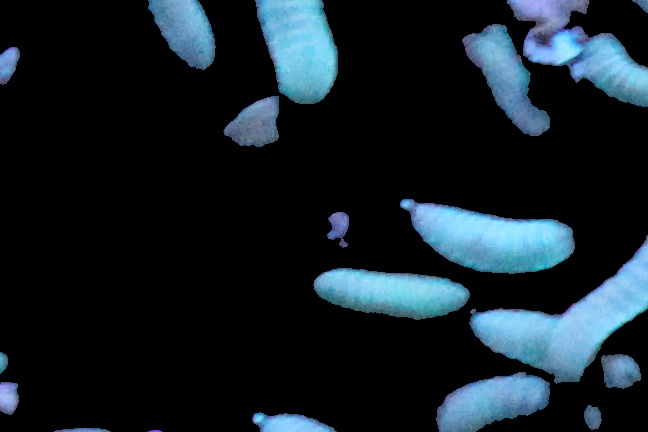larvae: (402, 200, 576, 276), (551, 247, 648, 358), (463, 17, 545, 139), (469, 307, 603, 377), (253, 1, 338, 110), (313, 268, 470, 322), (438, 375, 551, 432), (143, 1, 222, 70), (581, 37, 648, 113)
